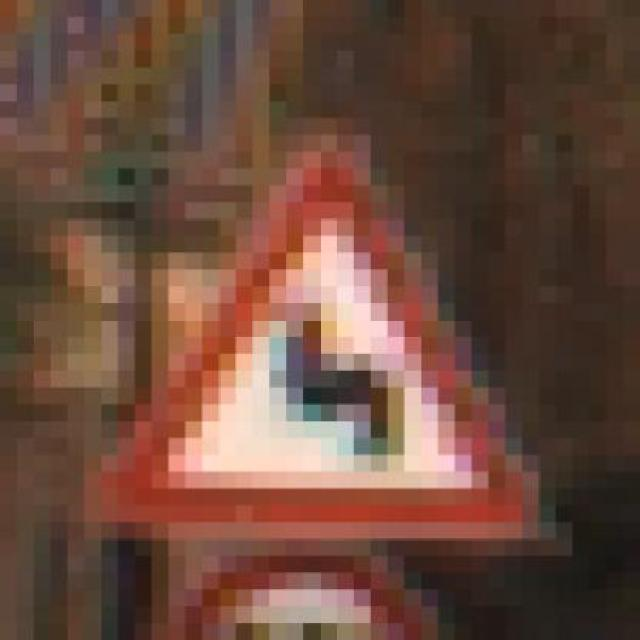Left Zig Zag Traffic: (73, 73, 562, 579)
